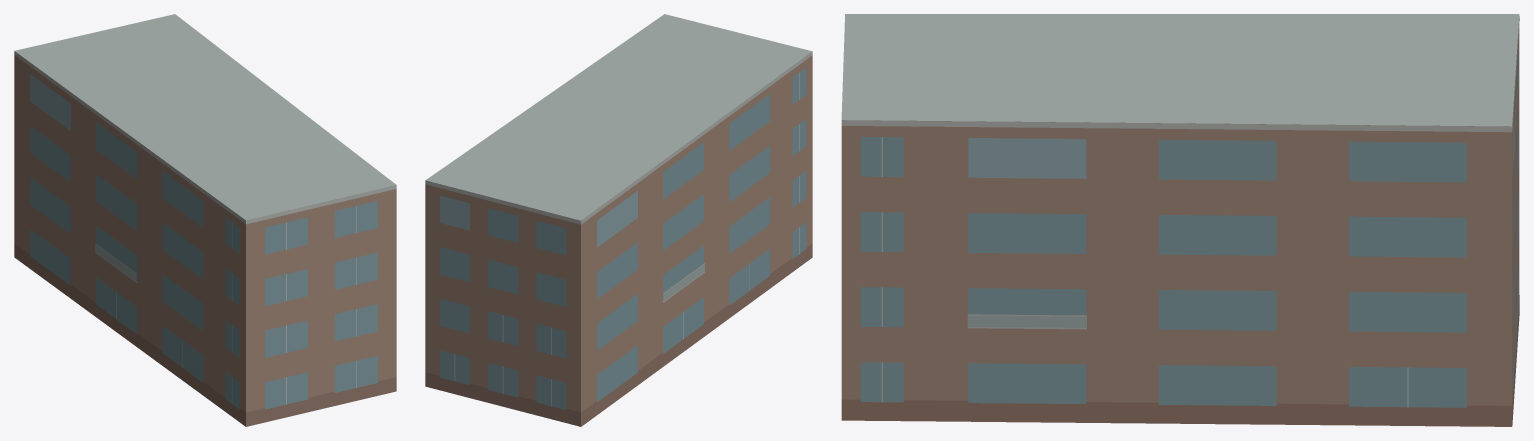
The model's file is survey-upis-32495577.glb.
3 views of the same model, side by side, from view 1: azimuth 30°, elevation 25°; view 2: azimuth 150°, elevation 25°; view 3: azimuth 270°, elevation 25° (orthographic). The views are drawn at different scales.
Visible parts, largest first — view 1: survey-upis-32495577.tmp; view 2: survey-upis-32495577.tmp; view 3: survey-upis-32495577.tmp.
Boxes of the visible parts, x1,y1,x2,y2 form: survey-upis-32495577.tmp: (14, 14, 396, 426); survey-upis-32495577.tmp: (425, 14, 812, 426); survey-upis-32495577.tmp: (841, 14, 1519, 426).
Size of the model in its own units: 10.26 by 12.73 by 26.05.
